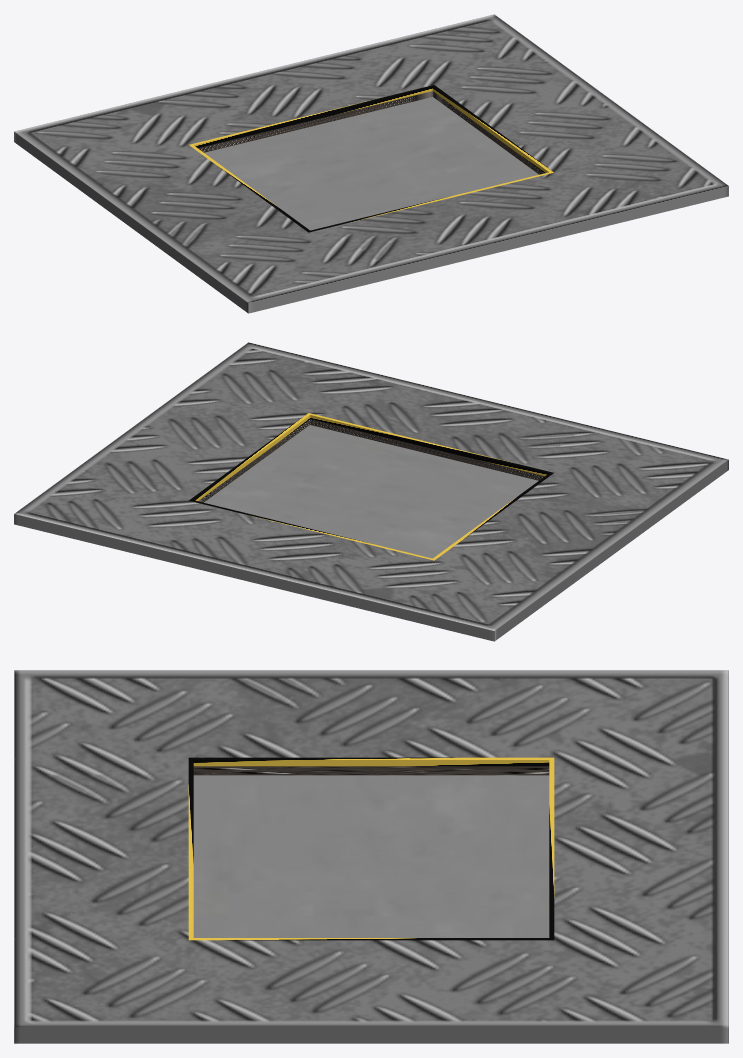
File: obj_Environment_Floors.FBX
3 renders of one model, top to bottom at view 1: azimuth 30°, elevation 25°; view 2: azimuth 150°, elevation 25°; view 3: azimuth 270°, elevation 25°, orthographic. The views are drawn at different scales.
Visible parts, largest first — view 1: obj_Env_OuterRing, obj_Env_Floor, obj_Env_WarningTape, obj_Env_InnerRing; view 2: obj_Env_OuterRing, obj_Env_Floor, obj_Env_WarningTape, obj_Env_InnerRing; view 3: obj_Env_OuterRing, obj_Env_Floor, obj_Env_WarningTape, obj_Env_InnerRing.
Boxes of the visible parts, x1,y1,x2,y2 form: obj_Env_OuterRing: (14,14,728,313); obj_Env_Floor: (204,97,538,230); obj_Env_WarningTape: (189,85,553,232); obj_Env_InnerRing: (198,91,544,174); obj_Env_OuterRing: (14,342,728,641); obj_Env_Floor: (204,425,538,558); obj_Env_WarningTape: (189,413,553,560); obj_Env_InnerRing: (198,419,544,502); obj_Env_OuterRing: (14,670,728,1043); obj_Env_Floor: (193,775,549,937); obj_Env_WarningTape: (188,757,554,940); obj_Env_InnerRing: (193,766,549,775).
Bounding box in the file's own units: 21831 × 453 × 18452.
